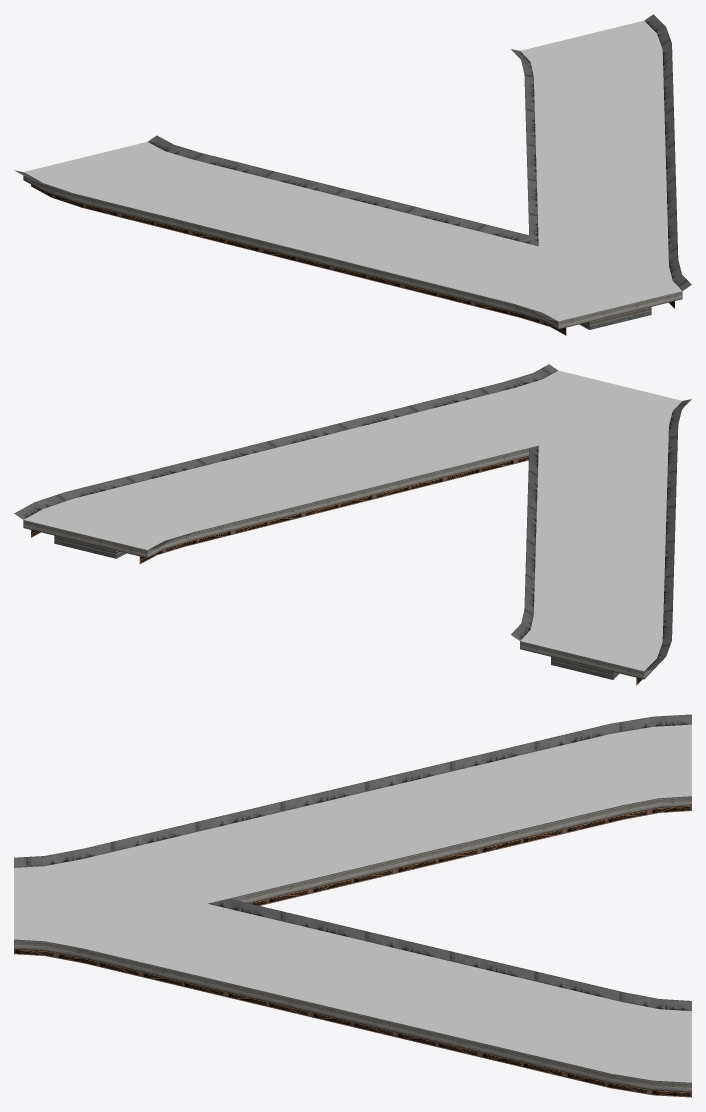
Rendered from Fork.fbx.
The picture shows the model from 3 angles, top to bottom: view 1: azimuth 30°, elevation 25°; view 2: azimuth 150°, elevation 25°; view 3: azimuth 270°, elevation 25°; orthographic projection. The views are drawn at different scales.
Visible parts, largest first — view 1: Empty_Mesh; view 2: Empty_Mesh; view 3: Empty_Mesh.
Boxes of the visible parts, box(x1,y1,x2,y2) form: Empty_Mesh: box(14, 14, 691, 335); Empty_Mesh: box(14, 364, 691, 685); Empty_Mesh: box(14, 714, 691, 1097).
Size of the model in its own units: 82.4 by 2.5 by 64.
